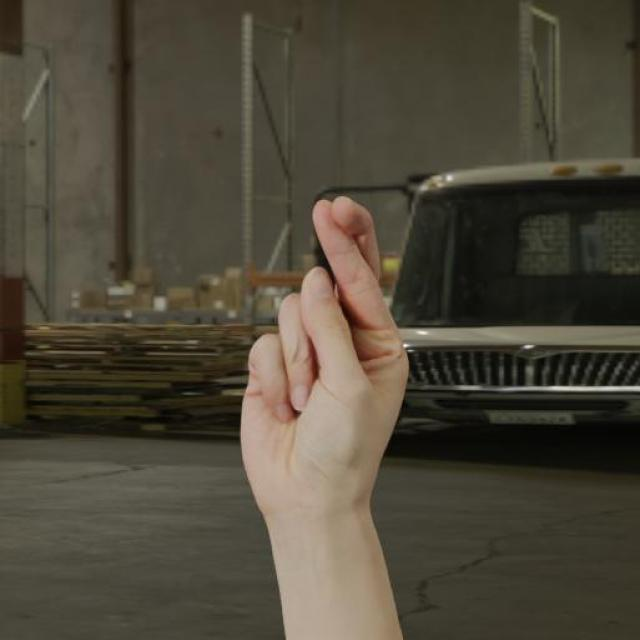R: (234, 190, 416, 550)
